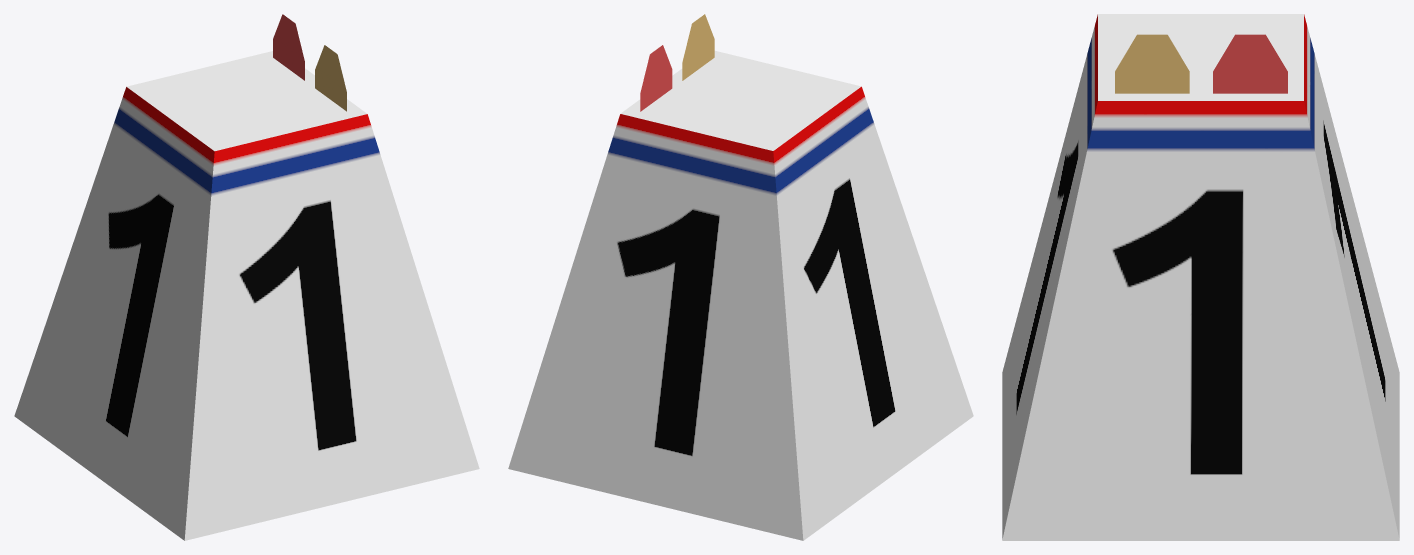
File: Marker_Line1.FBX
3 renders of one model, left to right at view 1: azimuth 30°, elevation 25°; view 2: azimuth 150°, elevation 25°; view 3: azimuth 270°, elevation 25°, orthographic. The views are drawn at different scales.
Parts seen in each view (by area): view 1: Marker_Line1; view 2: Marker_Line1; view 3: Marker_Line1.
Part boxes in pixels (left/top/right/bottom): Marker_Line1: left=14, top=14, right=479, bottom=540; Marker_Line1: left=508, top=14, right=973, bottom=540; Marker_Line1: left=1002, top=14, right=1399, bottom=540.
Size of the model in its own units: 6.76 by 8.6 by 6.76.
